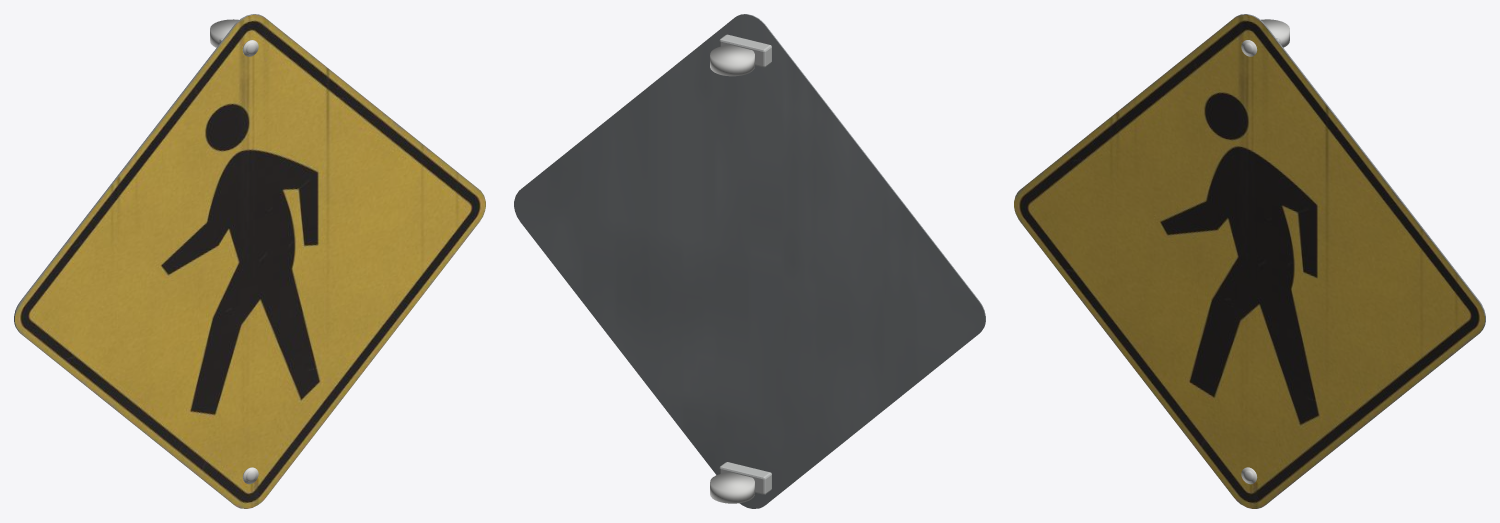
Rendered from pedestrian-v1.glb.
3 renders of one model, left to right at view 1: azimuth 30°, elevation 25°; view 2: azimuth 150°, elevation 25°; view 3: azimuth 330°, elevation 25°, orthographic.
Visible parts, largest first — view 1: pedestrian-v1; view 2: pedestrian-v1; view 3: pedestrian-v1.
Boxes of the visible parts, box(x1,y1,x2,y2) form: pedestrian-v1: box(14, 14, 485, 508); pedestrian-v1: box(514, 14, 985, 508); pedestrian-v1: box(1014, 14, 1485, 508).
Bounding box in the file's own units: 0.762 × 0.762 × 0.0871.
Materials: 1 (1 with a texture image).
